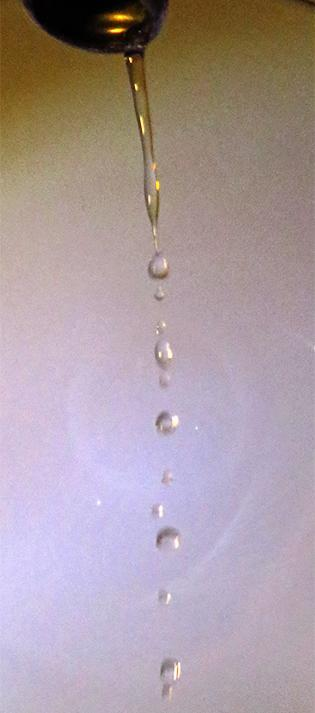water drop: (154, 523, 184, 556), (158, 659, 185, 686), (146, 251, 171, 280), (156, 409, 181, 433), (156, 334, 173, 368)
